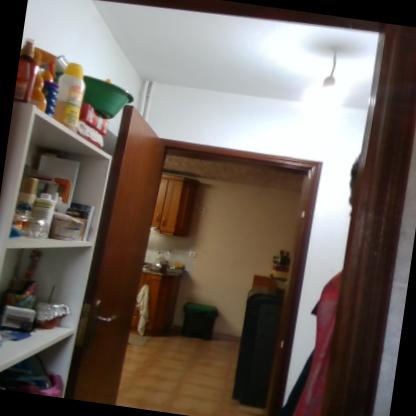open: (73, 94, 332, 415)
